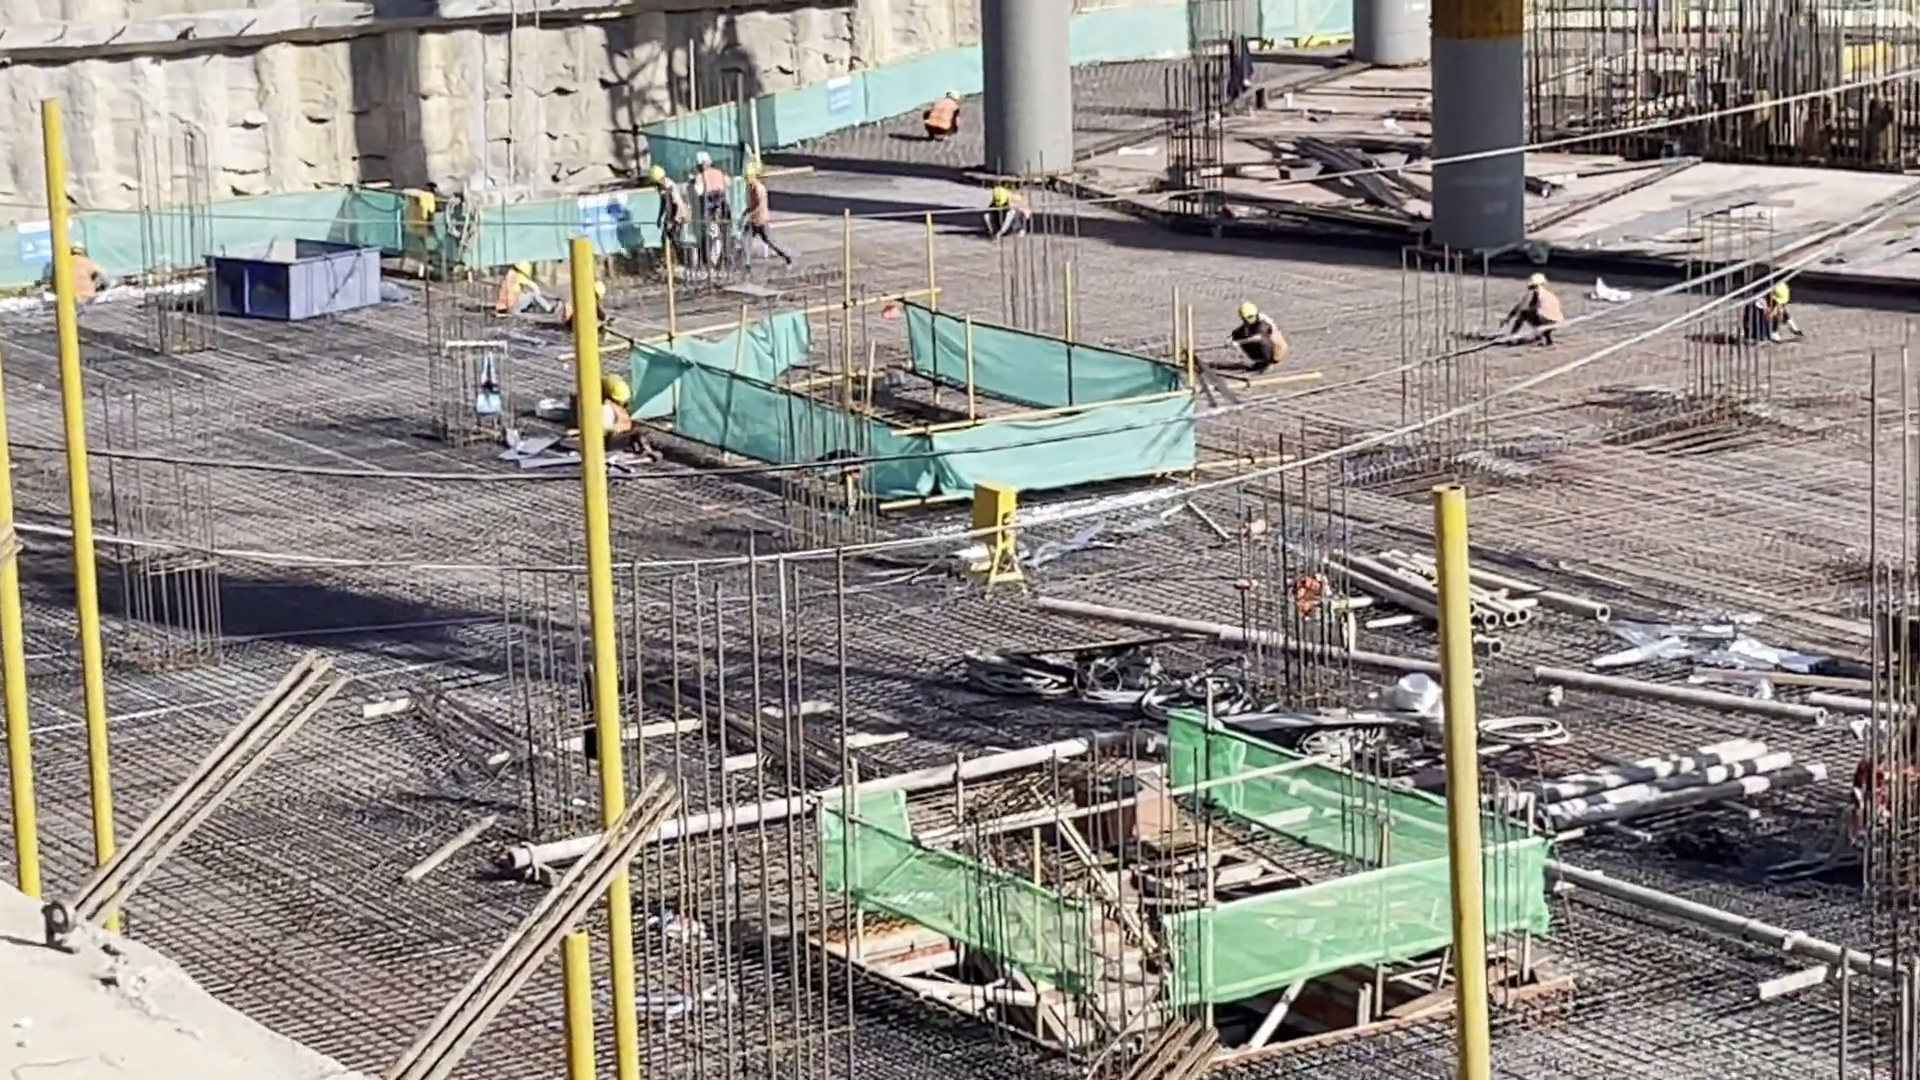ebox: (970, 484, 1023, 568), (394, 188, 435, 234)
helmet: (610, 383, 633, 402), (1773, 281, 1790, 303), (1238, 302, 1258, 318), (1526, 273, 1546, 287), (515, 260, 532, 277), (991, 188, 1007, 206), (650, 166, 665, 183), (696, 150, 710, 166)
hopper: (202, 241, 378, 323)
person: (738, 164, 788, 262), (690, 149, 731, 258), (1505, 274, 1562, 344), (1229, 303, 1284, 372), (644, 168, 685, 256), (497, 260, 554, 319), (982, 188, 1027, 237), (923, 87, 962, 140)
slogan: (581, 193, 633, 242), (20, 218, 52, 266), (829, 73, 855, 116)
vest: (1529, 285, 1561, 319), (746, 185, 770, 231), (706, 164, 728, 207), (497, 274, 524, 311), (927, 97, 955, 127)
